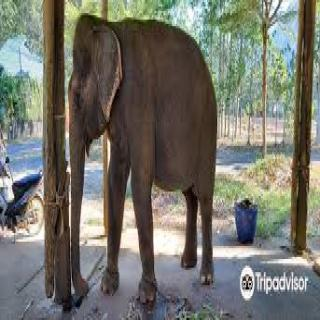Elephant: (65, 7, 221, 312)
